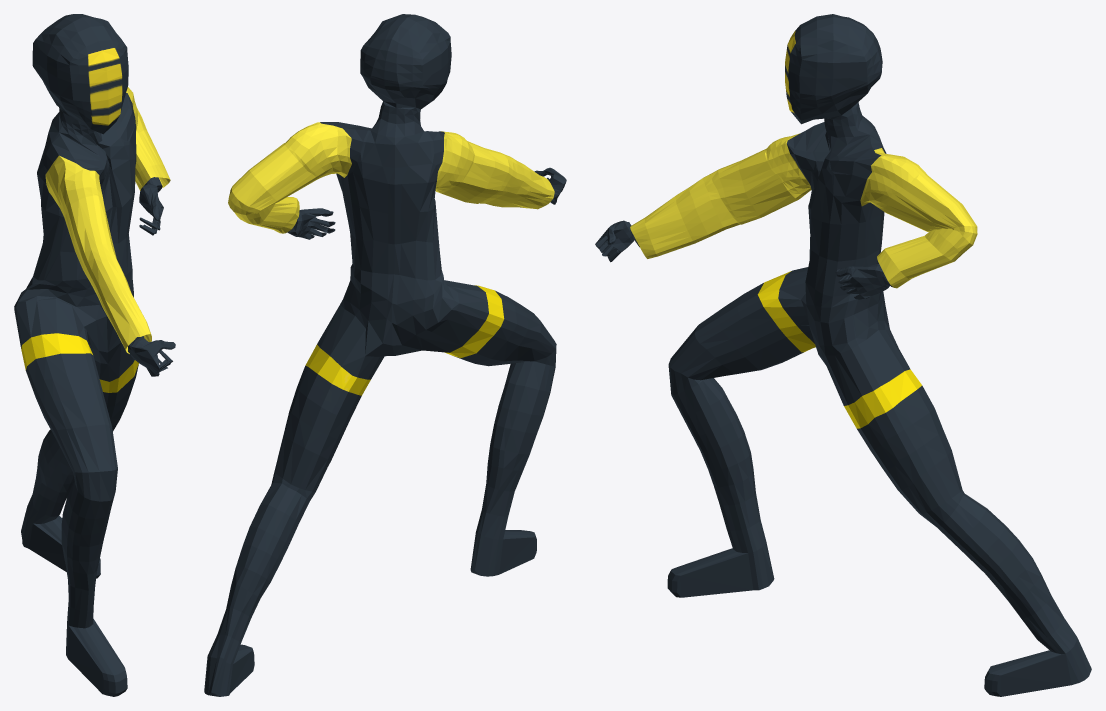
Rendered from Sentry_WR_000010.obj.
The picture shows the model from 3 angles, left to right: view 1: azimuth 30°, elevation 25°; view 2: azimuth 150°, elevation 25°; view 3: azimuth 270°, elevation 25°; orthographic projection. The views are drawn at different scales.
Visible parts, largest first — view 1: Cube; view 2: Cube; view 3: Cube.
Part boxes in pixels (left/top/right/bottom): Cube: left=14, top=14, right=175, bottom=696; Cube: left=204, top=14, right=566, bottom=696; Cube: left=595, top=14, right=1091, bottom=696.
Size of the model in its own units: 1.19 by 3.62 by 2.58.
